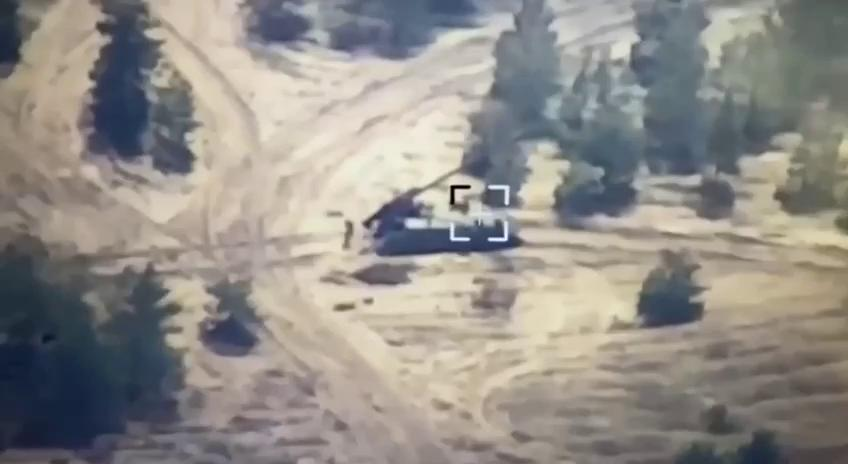tank: (361, 146, 522, 256)
